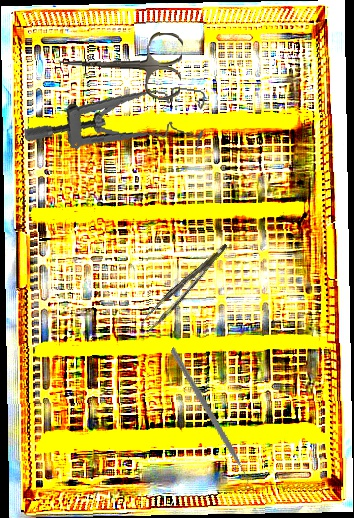Chopper: (128, 347, 288, 493)
Iris Scissors: (57, 27, 184, 101)
Speculum: (22, 66, 211, 167)
Tissue Forceps: (135, 243, 238, 333)
